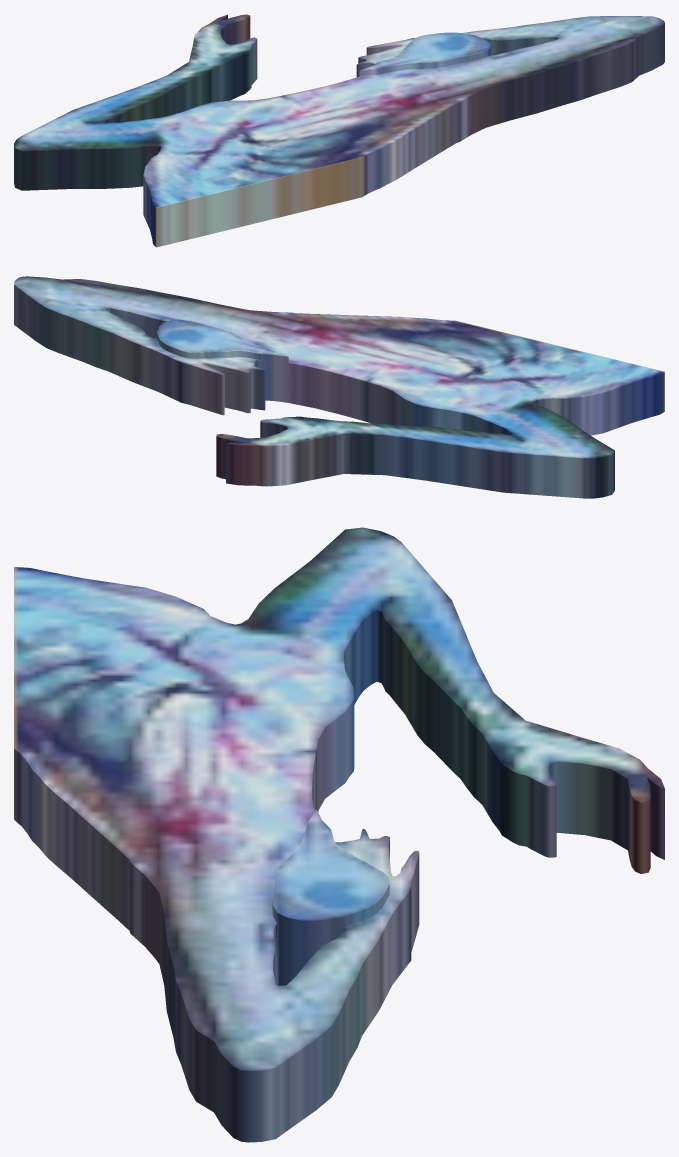
File: el despertar 3.dae
The picture shows the model from 3 angles, top to bottom: view 1: azimuth 30°, elevation 25°; view 2: azimuth 150°, elevation 25°; view 3: azimuth 270°, elevation 25°; orthographic projection. The views are drawn at different scales.
Parts seen in each view (by area): view 1: SketchUp; view 2: SketchUp; view 3: SketchUp.
Part boxes in pixels (left/top/right/bottom): SketchUp: left=14, top=14, right=664, bottom=247; SketchUp: left=14, top=276, right=664, bottom=498; SketchUp: left=14, top=527, right=664, bottom=1142.
Bounding box in the file's own units: 20.43 × 10.34 × 1.44.
2 materials, 1 textured.
